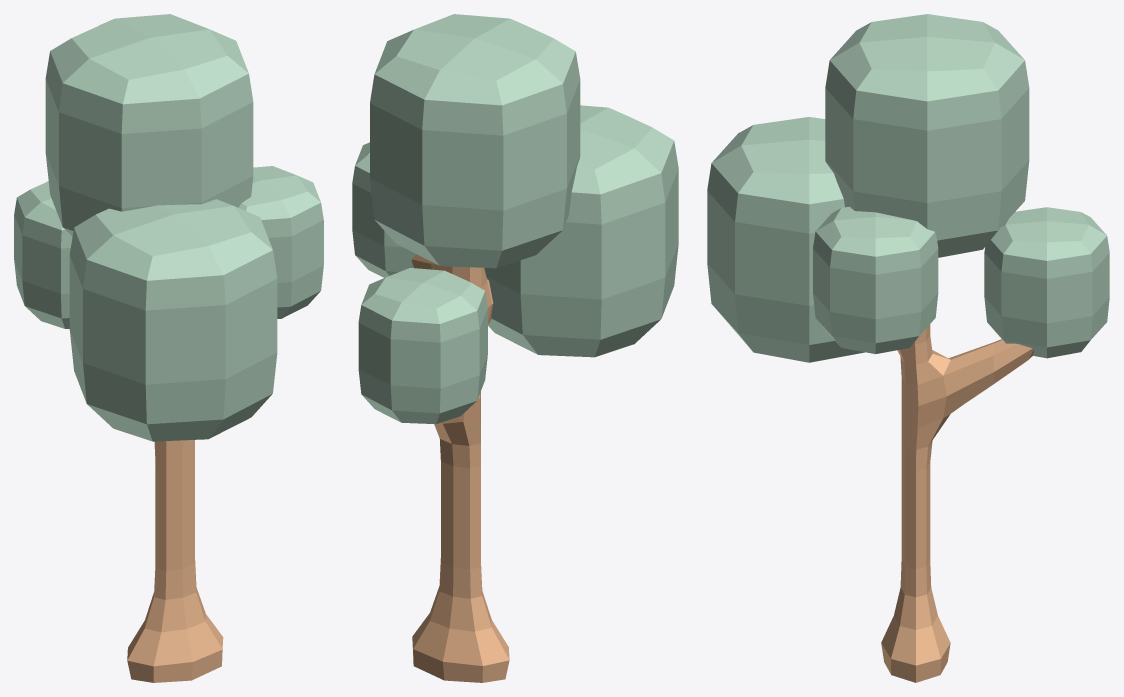
The model's file is Arbre3_big_lowpoly.fbx.
3 renders of one model, left to right at view 1: azimuth 30°, elevation 25°; view 2: azimuth 150°, elevation 25°; view 3: azimuth 270°, elevation 25°, orthographic. The views are drawn at different scales.
Visible parts, largest first — view 1: Arbre3_big_lowpoly; view 2: Arbre3_big_lowpoly; view 3: Arbre3_big_lowpoly.
Boxes of the visible parts, bbox=[...] form: Arbre3_big_lowpoly: bbox=[14, 14, 323, 682]; Arbre3_big_lowpoly: bbox=[352, 14, 678, 682]; Arbre3_big_lowpoly: bbox=[707, 14, 1109, 682].
Size of the model in its own units: 3.5 by 8 by 4.69.
